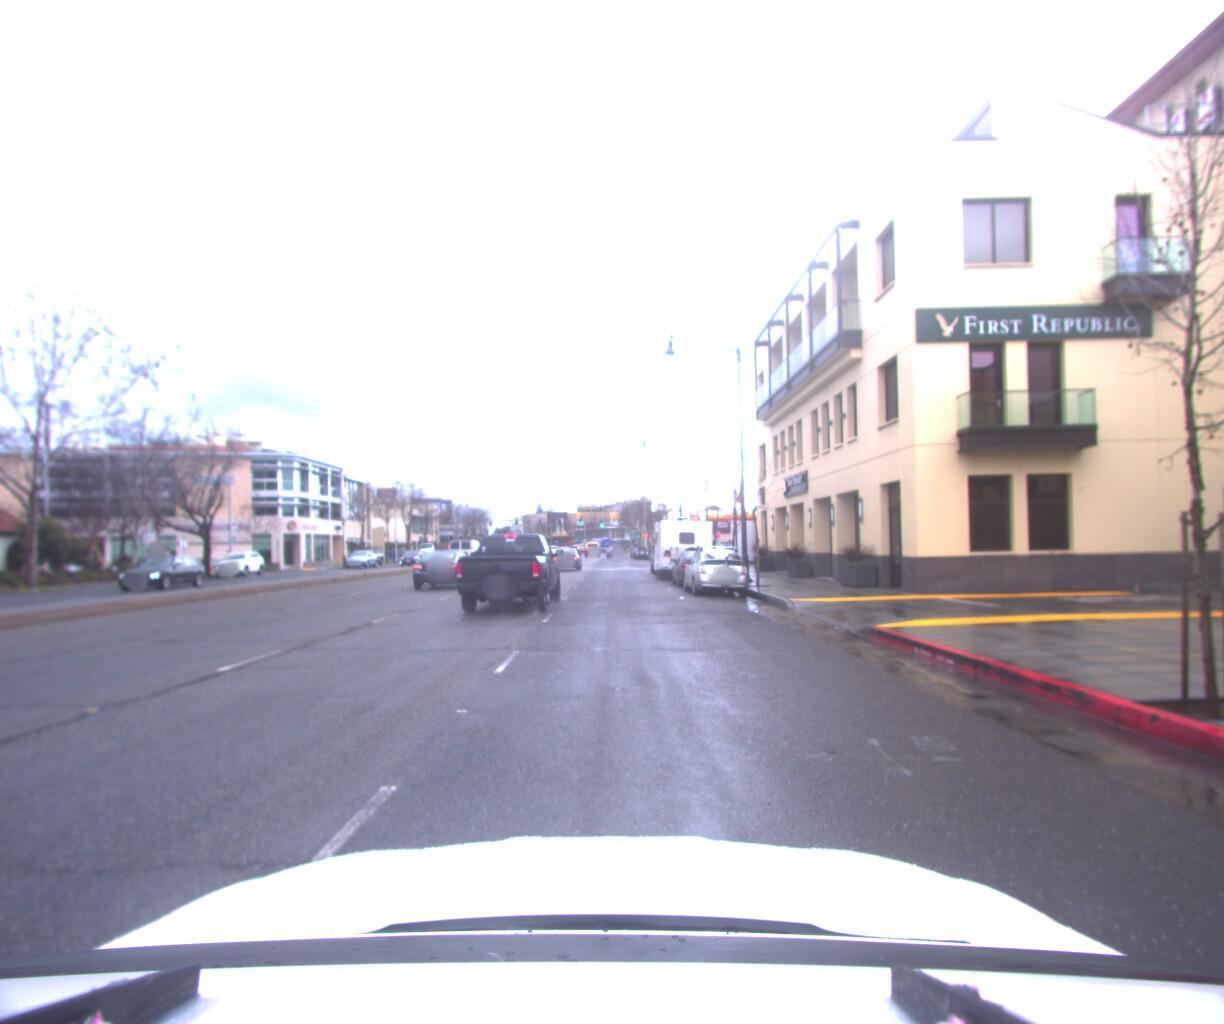car: (457, 529, 566, 618), (682, 541, 750, 596), (127, 560, 218, 599), (412, 545, 480, 588), (665, 548, 719, 588), (209, 550, 270, 580), (446, 537, 487, 570), (556, 545, 589, 571), (342, 549, 379, 568), (395, 547, 429, 565)
other_vehicle: (645, 511, 719, 577)
